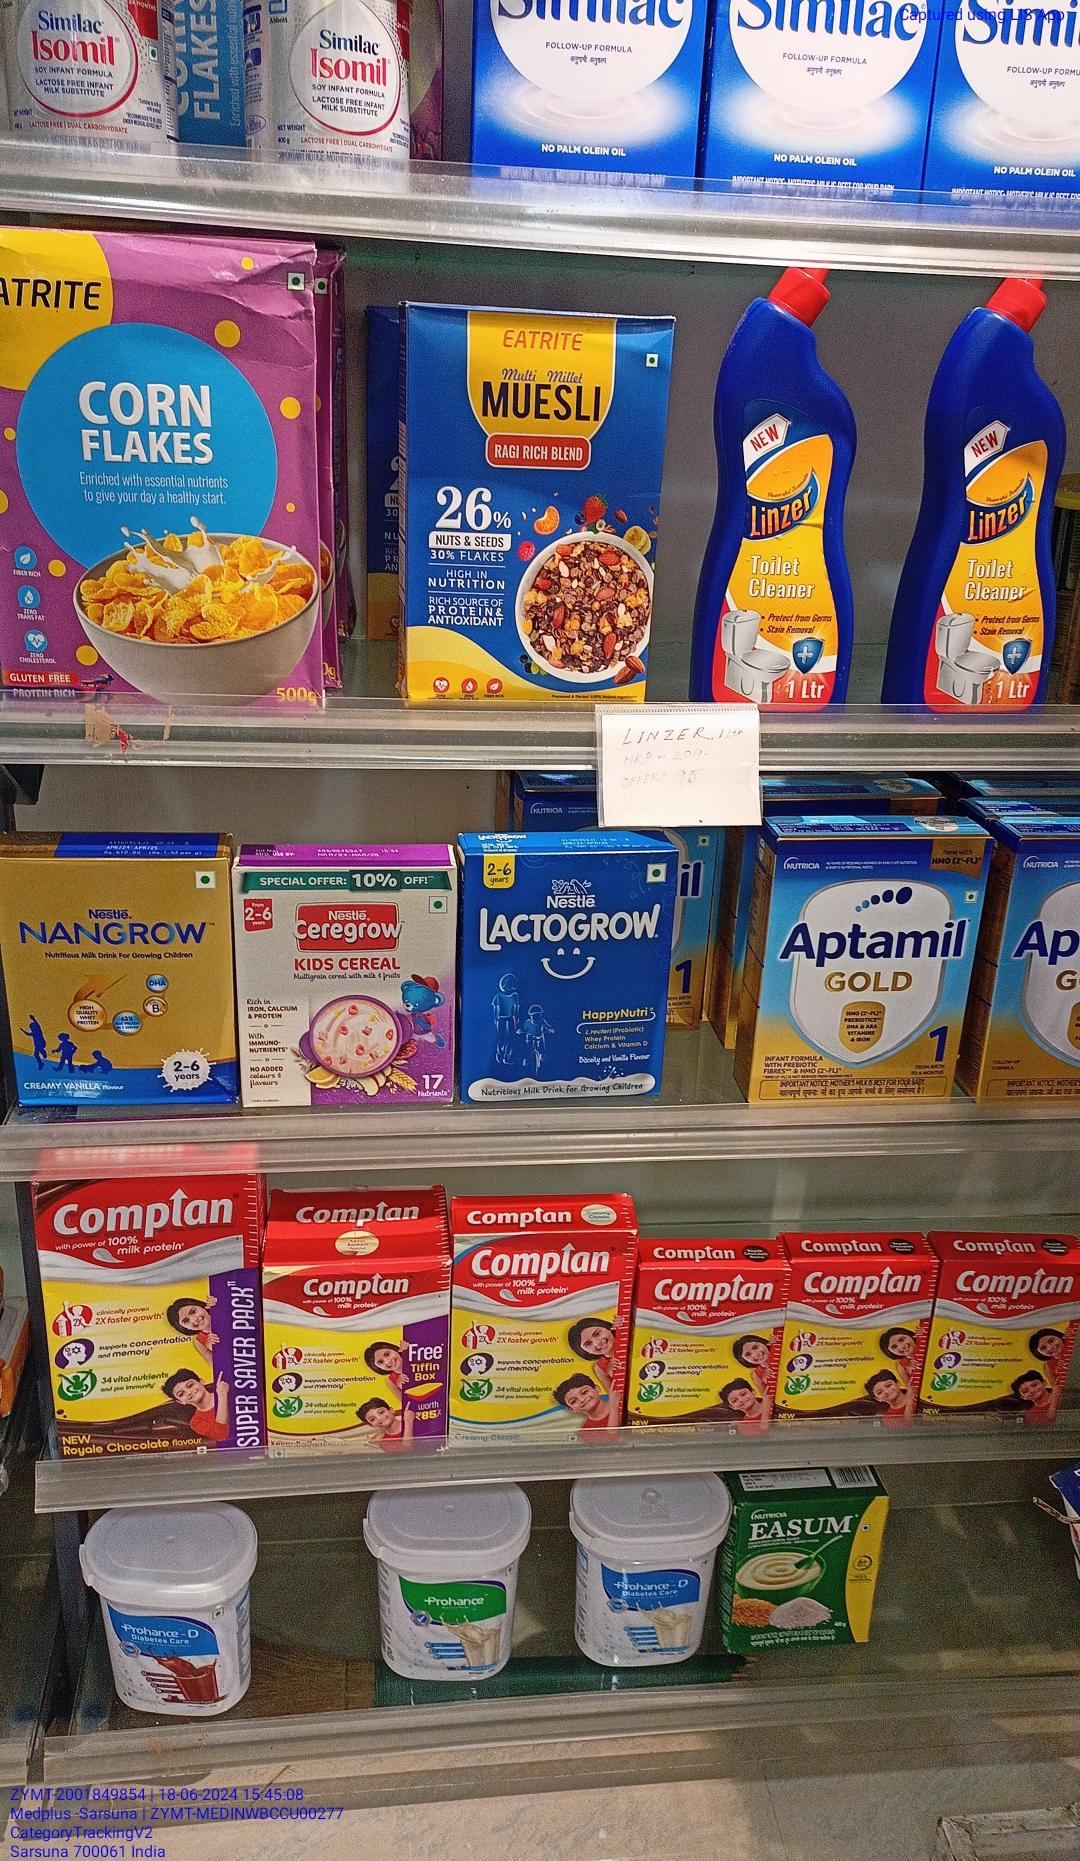COMPLAN_CHOCOLATE_200_GMS_PACK: (633, 1263, 774, 1434), (789, 1261, 913, 1442), (935, 1252, 1063, 1425)
COMPLAN_CHOCOLATE_500_GMS_PACK: (45, 1179, 257, 1457)
COMPLAN_CREAMY_CLASSIC_500_G_PACK: (459, 1234, 621, 1438)
COMPLAN_KESAR_BADAM_500_GMS_PACK: (267, 1265, 444, 1448)
